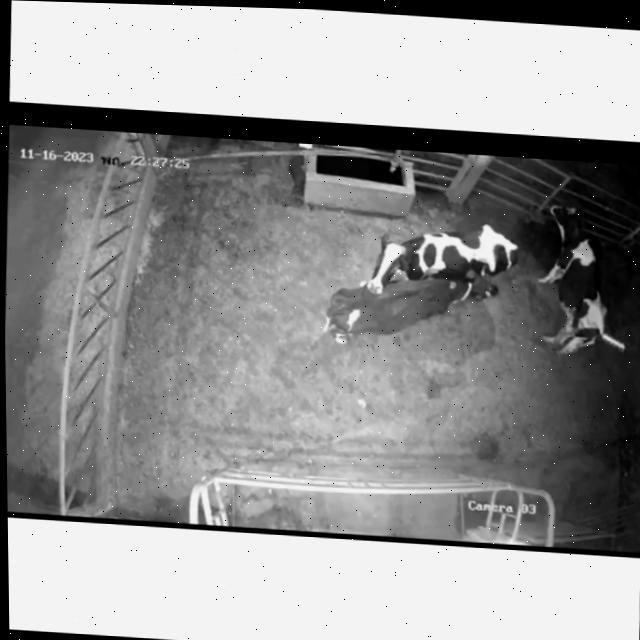propping: (356, 227, 414, 326)
